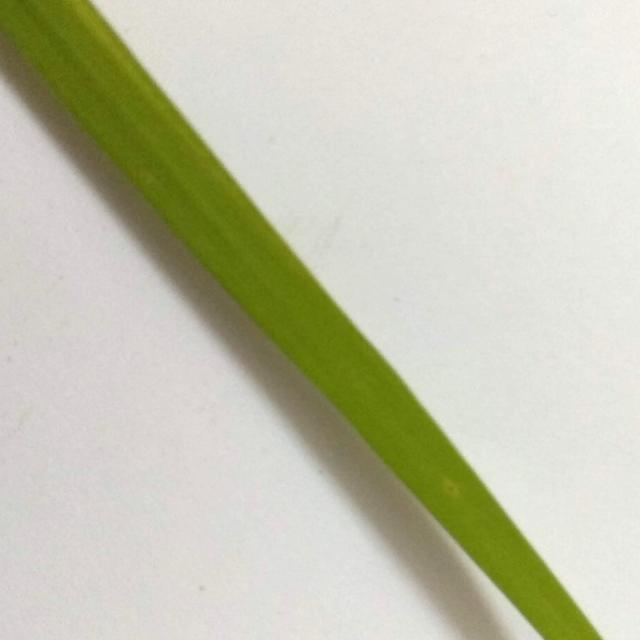healthy: (7, 1, 640, 640)
